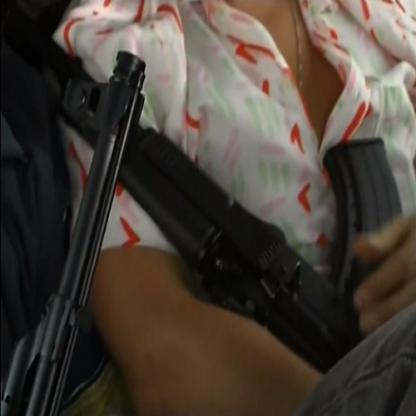Gun: (0, 48, 415, 415)
